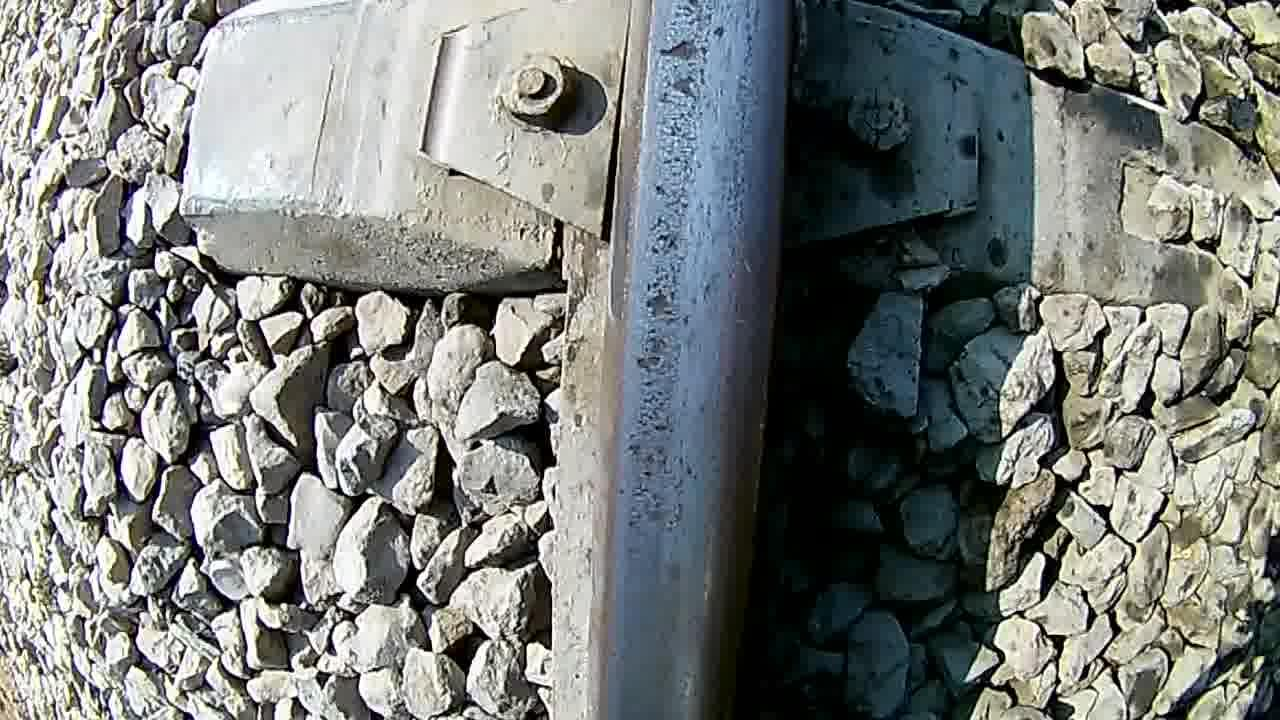crack: (608, 1, 794, 720)
